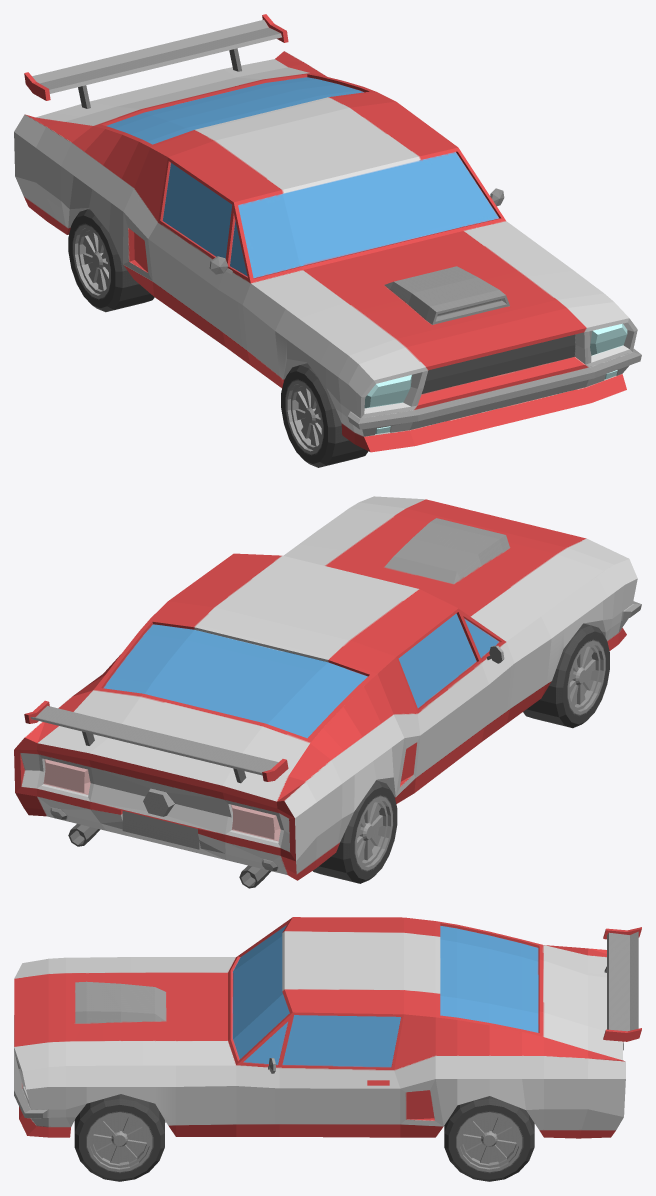
Rendered from Mustang.fbx.
3 renders of one model, top to bottom at view 1: azimuth 30°, elevation 25°; view 2: azimuth 150°, elevation 25°; view 3: azimuth 270°, elevation 25°, orthographic. The views are drawn at different scales.
Visible parts, largest first — view 1: Mustang, rightWheel, rearWheels; view 2: Mustang, rightWheel, rearWheels, breakLights; view 3: Mustang, leftWheel, rearWheels.
Boxes of the visible parts, bbox=[...] form: Mustang: bbox=[14, 14, 641, 452]; rightWheel: bbox=[281, 363, 368, 467]; rearWheels: bbox=[68, 209, 154, 312]; Mustang: bbox=[14, 496, 641, 888]; rightWheel: bbox=[523, 623, 609, 728]; rearWheels: bbox=[313, 780, 397, 883]; breakLights: bbox=[43, 759, 280, 841]; Mustang: bbox=[14, 917, 641, 1138]; leftWheel: bbox=[74, 1094, 164, 1181]; rearWheels: bbox=[444, 1096, 534, 1181].
Bounding box in the file's own units: 155 × 94.77 × 329.
Materials: 1 (1 with a texture image).
